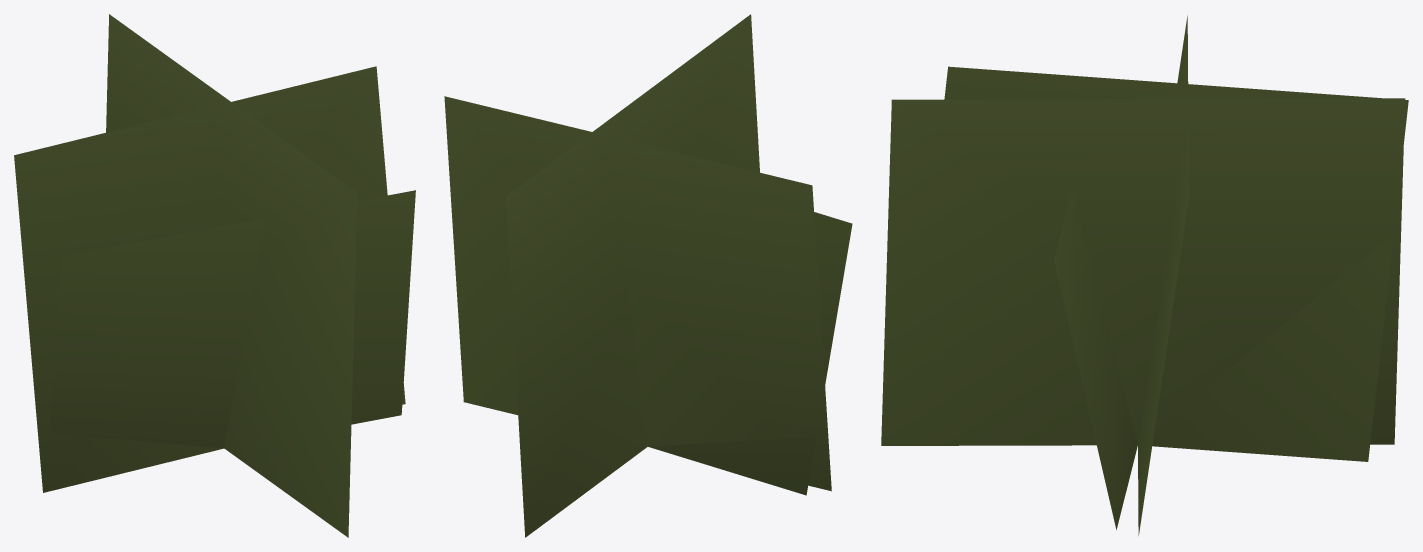
Rendered from veg.weed.glb.
The picture shows the model from 3 angles, left to right: view 1: azimuth 30°, elevation 25°; view 2: azimuth 150°, elevation 25°; view 3: azimuth 270°, elevation 25°; orthographic projection. The views are drawn at different scales.
Visible parts, largest first — view 1: LOD0; view 2: LOD0; view 3: LOD0.
Boxes of the visible parts, x1=… form: LOD0: x1=14, y1=14, x2=415, y2=537; LOD0: x1=444, y1=14, x2=852, y2=537; LOD0: x1=881, y1=15, x2=1408, y2=535.
Bounding box in the file's own units: 0.5145 × 0.4513 × 0.6105.
